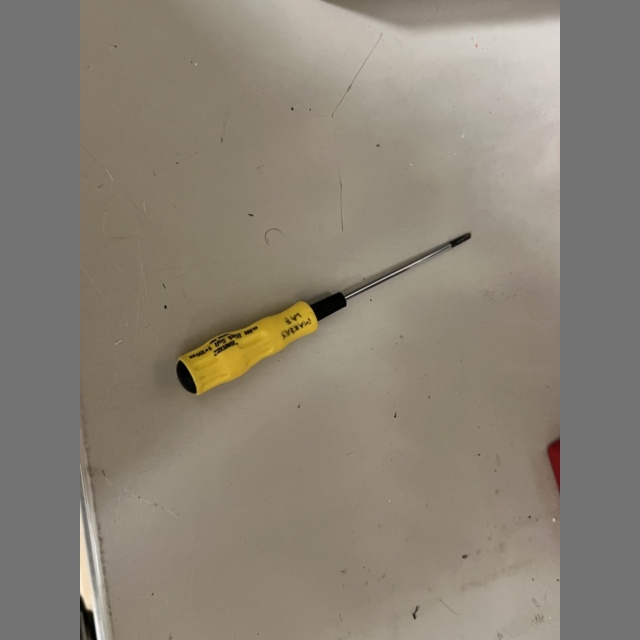screwdriver: (176, 232, 470, 394)
